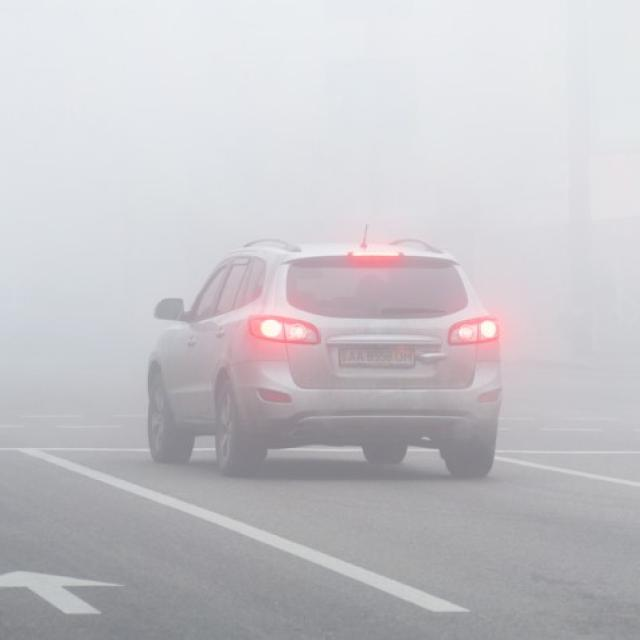car: (141, 237, 509, 482)
